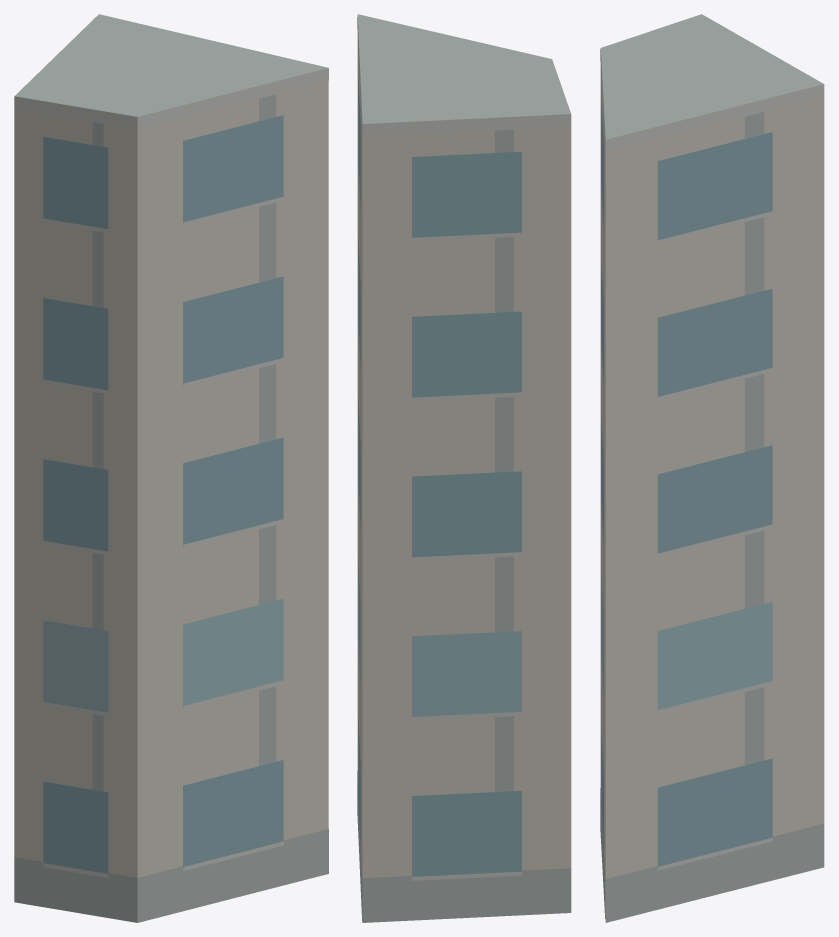
Rendered from survey-upis-32723542.glb.
3 renders of one model, left to right at view 1: azimuth 30°, elevation 25°; view 2: azimuth 150°, elevation 25°; view 3: azimuth 270°, elevation 25°, orthographic. The views are drawn at different scales.
Parts seen in each view (by area): view 1: survey-upis-32723542.tmp; view 2: survey-upis-32723542.tmp; view 3: survey-upis-32723542.tmp.
Boxes of the visible parts, bbox=[...] form: survey-upis-32723542.tmp: bbox=[14, 14, 328, 922]; survey-upis-32723542.tmp: bbox=[357, 14, 571, 922]; survey-upis-32723542.tmp: bbox=[600, 14, 824, 922].
Size of the model in its own units: 5.26 by 15.25 by 3.96.
